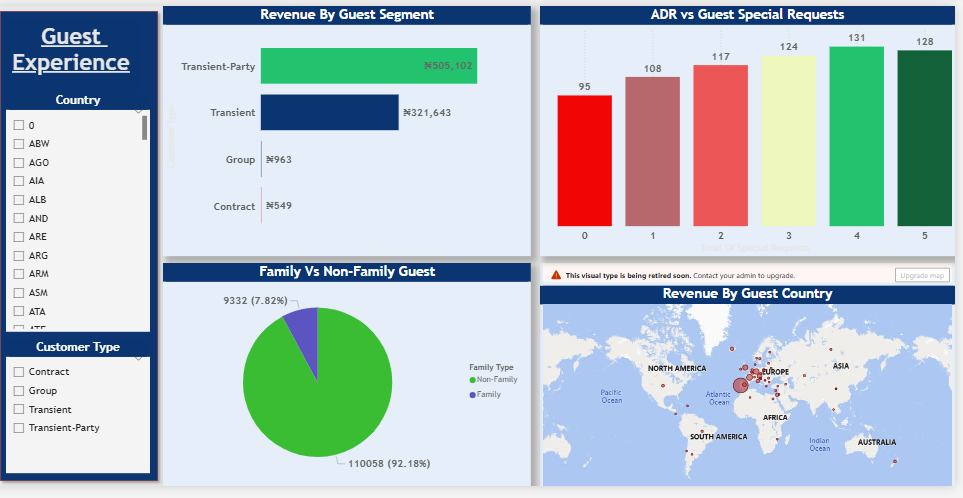

What the dashboard file says about the page in this screenshot:
{"tool":"powerbi","page":{"name":"Guest Experience Report","canvas":[1600,800],"ordinal":3},"visuals":[{"type":"shape","box":[0,0,280,800],"z":0},{"type":"textbox","box":[11.7,23.3,230,121.7],"z":1000},{"type":"map","title":"Guest Revenue Distribution  by Country","fields":{"Size":["hotel_bookings.Total Revenue"],"Category":["hotel_bookings.Country"]},"box":[280,385,1320,415],"z":2000},{"type":"clusteredBarChart","title":" Revenue By Customer Segment","fields":{"Category":["hotel_bookings.Customer Type"],"Y":["hotel_bookings.Total Revenue"]},"box":[280,0,613.3,416.7],"z":3000},{"type":"clusteredColumnChart","title":" ADR vs Guest Special Requests","fields":{"Category":["hotel_bookings.Total Of Special Requests"],"Y":["hotel_bookings.Average ADR"]},"box":[908.3,0,691.7,416.7],"z":3001},{"type":"slicer","title":"Country","fields":{"Values":["hotel_bookings.Country"]},"box":[18.3,145,248.3,636.7],"z":3002}]}

Visuals, with their boxes on the page's 1600x800 design canvas (x1, y1, x2, y2). These are canvas units, not pixel positions in the 963x498 screenshot, which may show the page scaled, cropped or inside an application window:
shape: 0,0,280,800
textbox: 12,23,242,145
"Guest Revenue Distribution  by Country" map: 280,385,1600,800
" Revenue By Customer Segment" clusteredBarChart: 280,0,893,417
" ADR vs Guest Special Requests" clusteredColumnChart: 908,0,1600,417
"Country" slicer: 18,145,267,782
